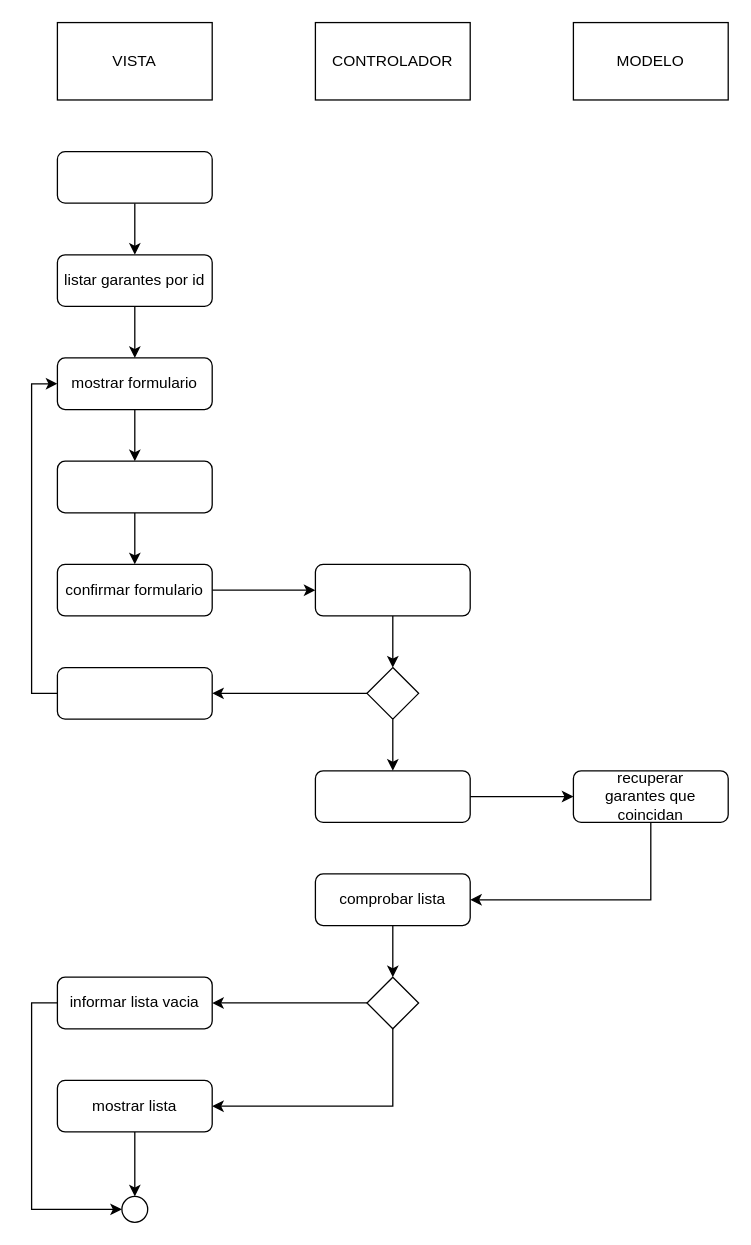
This 751x1245 diagram has some shape labels left out. The shapes that lost their labels are listed below. From the top down, each one's centre as x and y in pixels, then its label:
point (134, 176): vista garantes
point (134, 486): completar formulario
point (392, 589): validar datos
point (134, 692): informar error
point (392, 795): recuperar lista garantes
